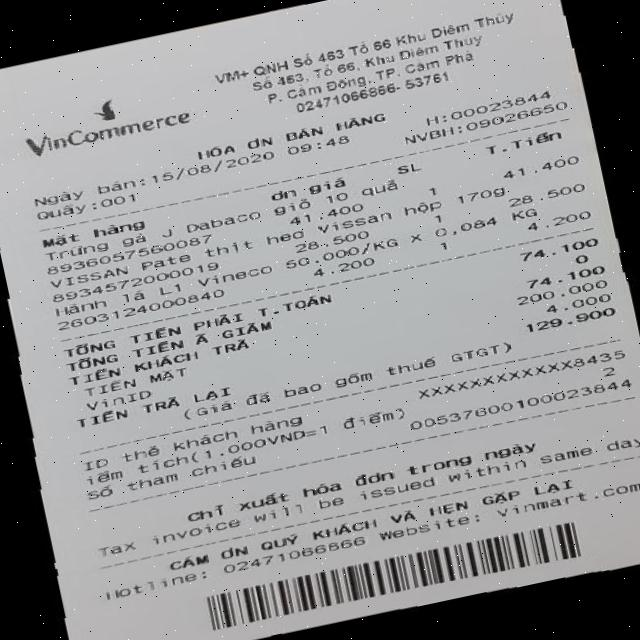Date: (146, 148, 276, 186)
Store_Name: (17, 101, 201, 162)
amount_number: (514, 235, 599, 262)
label_total: (60, 289, 337, 361)
